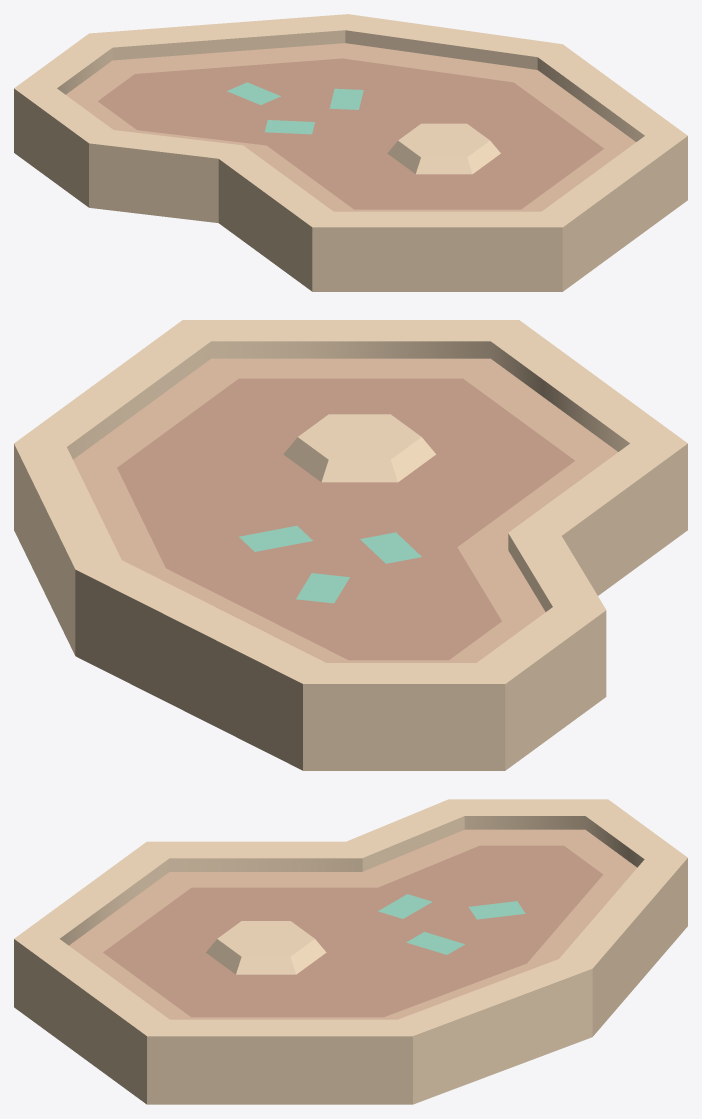
File: meat_cooked.glb
3 renders of one model, top to bottom at view 1: azimuth 30°, elevation 25°; view 2: azimuth 150°, elevation 25°; view 3: azimuth 270°, elevation 25°, orthographic. The views are drawn at different scales.
Visible parts, largest first — view 1: meatCooked; view 2: meatCooked; view 3: meatCooked.
Boxes of the visible parts, x1,y1,x2,y2 form: meatCooked: (14, 14, 687, 291); meatCooked: (14, 320, 687, 770); meatCooked: (14, 799, 687, 1104).
Size of the model in its own units: 0.4785 by 0.0645 by 0.5754.
